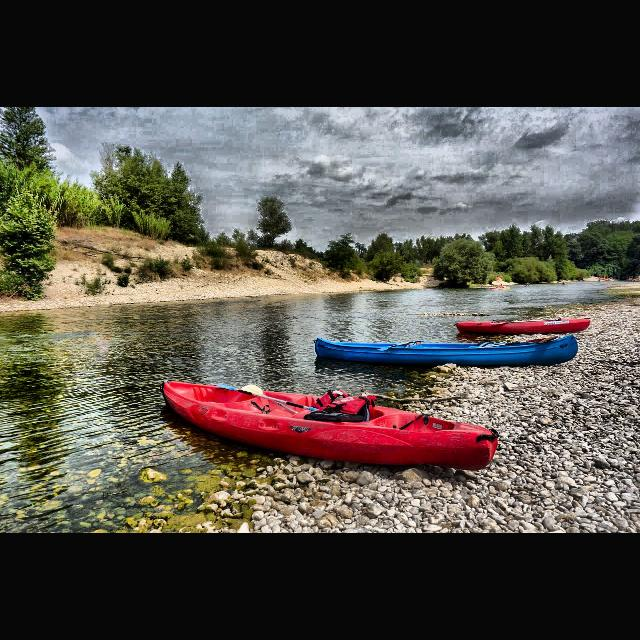kayak: (159, 378, 499, 472), (314, 334, 580, 366), (455, 317, 591, 335)
